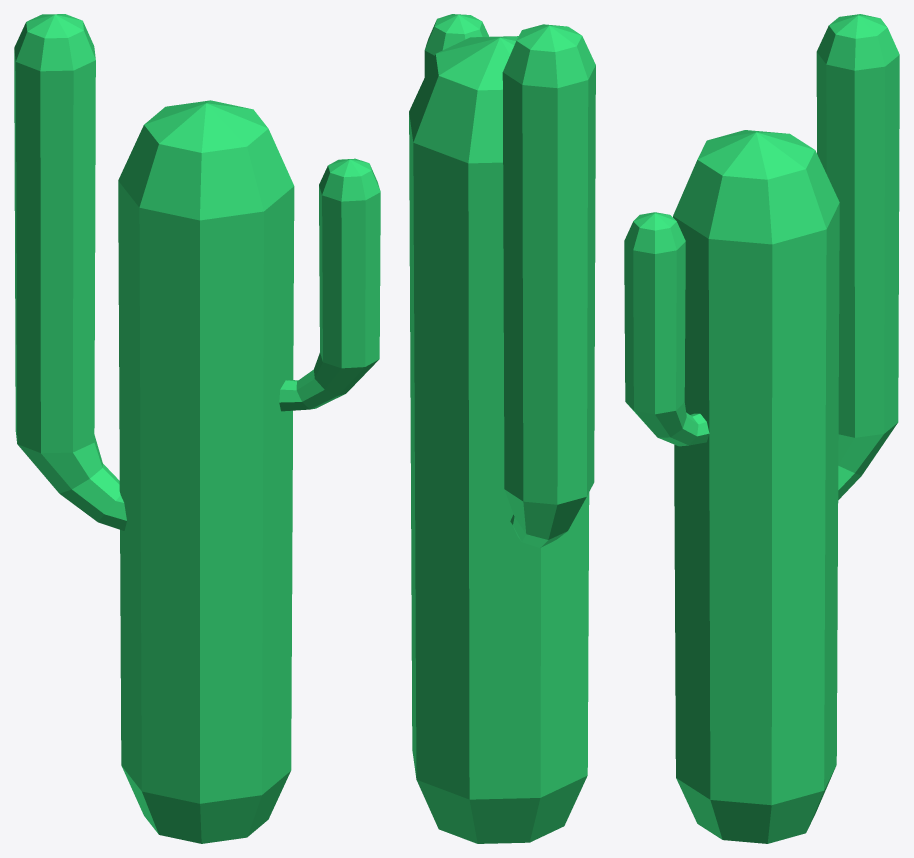
The model's file is Cactus Small.fbx.
The picture shows the model from 3 angles, left to right: view 1: azimuth 30°, elevation 25°; view 2: azimuth 150°, elevation 25°; view 3: azimuth 270°, elevation 25°; orthographic projection. The views are drawn at different scales.
Parts seen in each view (by area): view 1: Cactus Small; view 2: Cactus Small; view 3: Cactus Small.
Boxes of the visible parts, x1,y1,x2,y2 form: Cactus Small: (14, 14, 380, 843); Cactus Small: (409, 14, 595, 843); Cactus Small: (624, 14, 899, 843).
Size of the model in its own units: 0.3577 by 1.09 by 0.3493.
